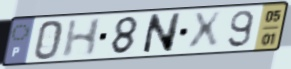0: (31, 19, 65, 62)
8: (108, 14, 142, 56)
9: (226, 9, 256, 49)
H: (59, 16, 105, 60)
N: (139, 11, 183, 56)
X: (187, 10, 225, 53)
